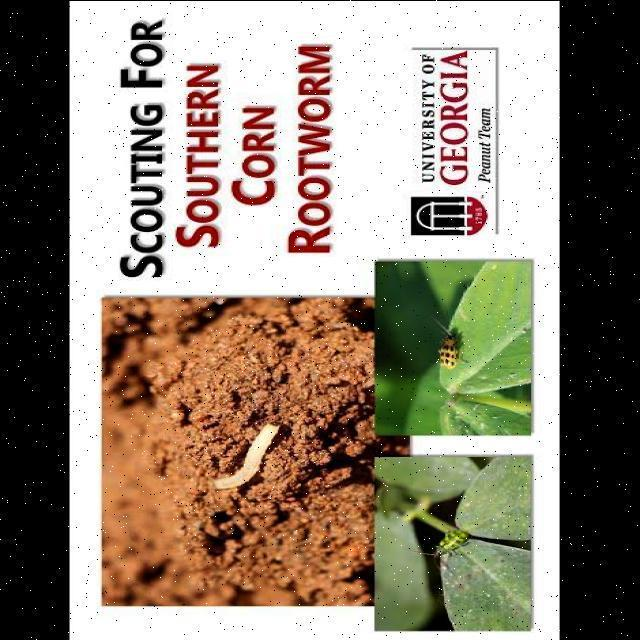gusano_verde: (413, 528, 471, 570), (432, 316, 468, 368)
